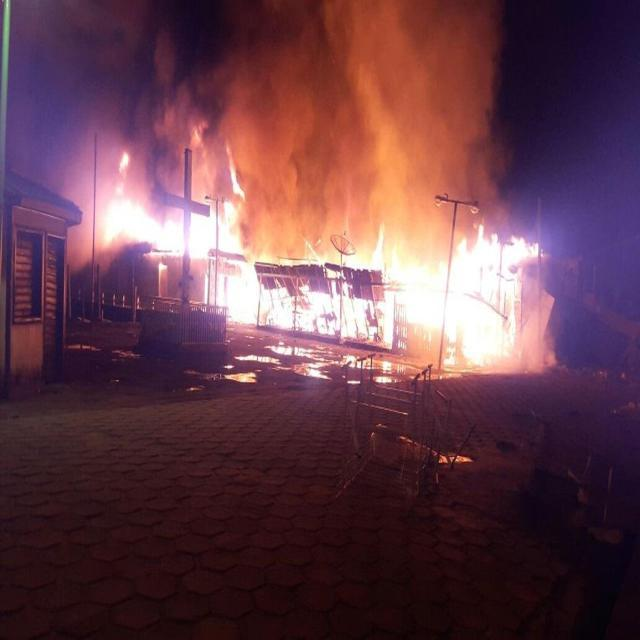Fire: (252, 210, 534, 352), (110, 163, 254, 321)
Smoke: (25, 7, 505, 188)
